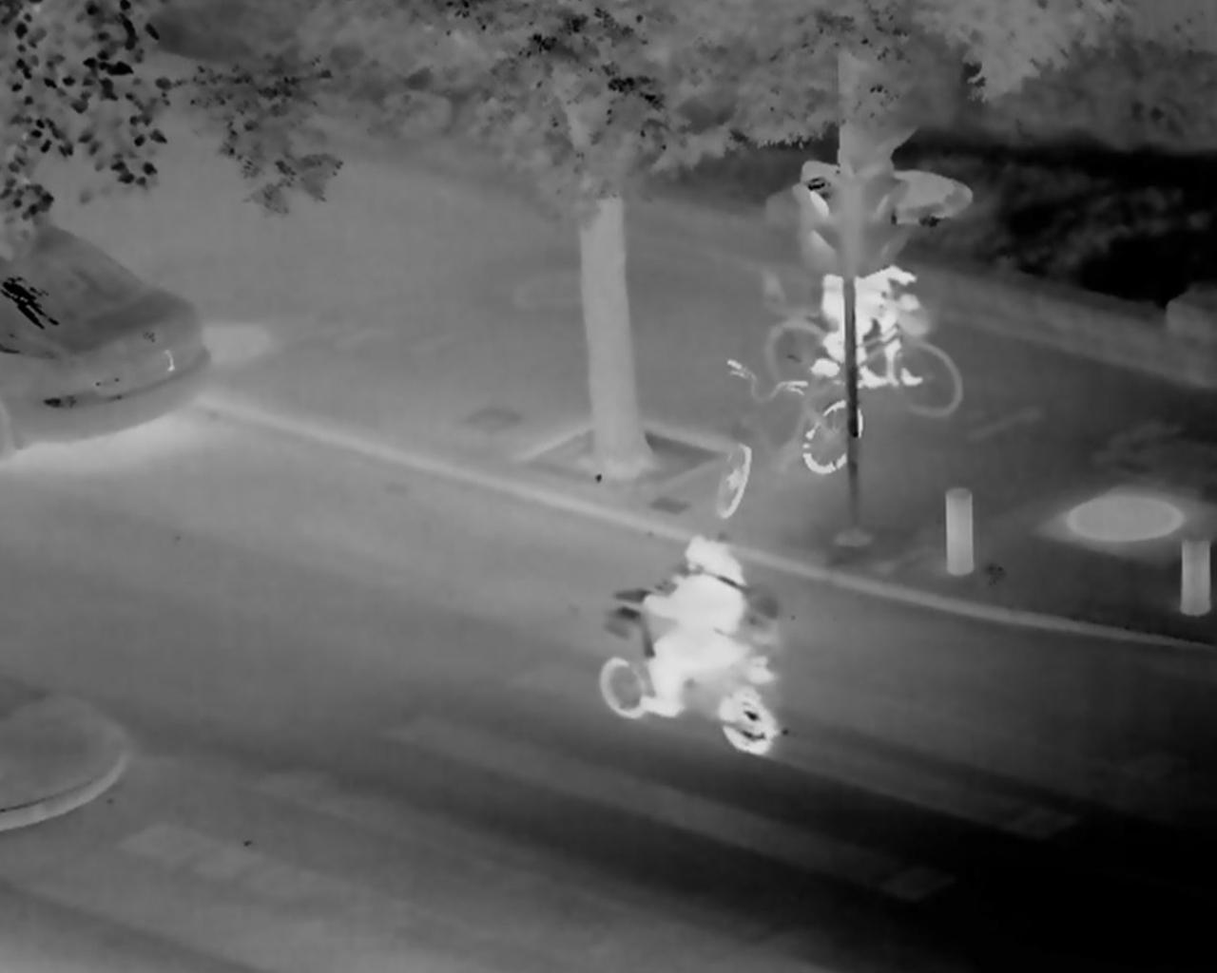person: (643, 534, 748, 715), (851, 203, 922, 391), (821, 225, 876, 390)
